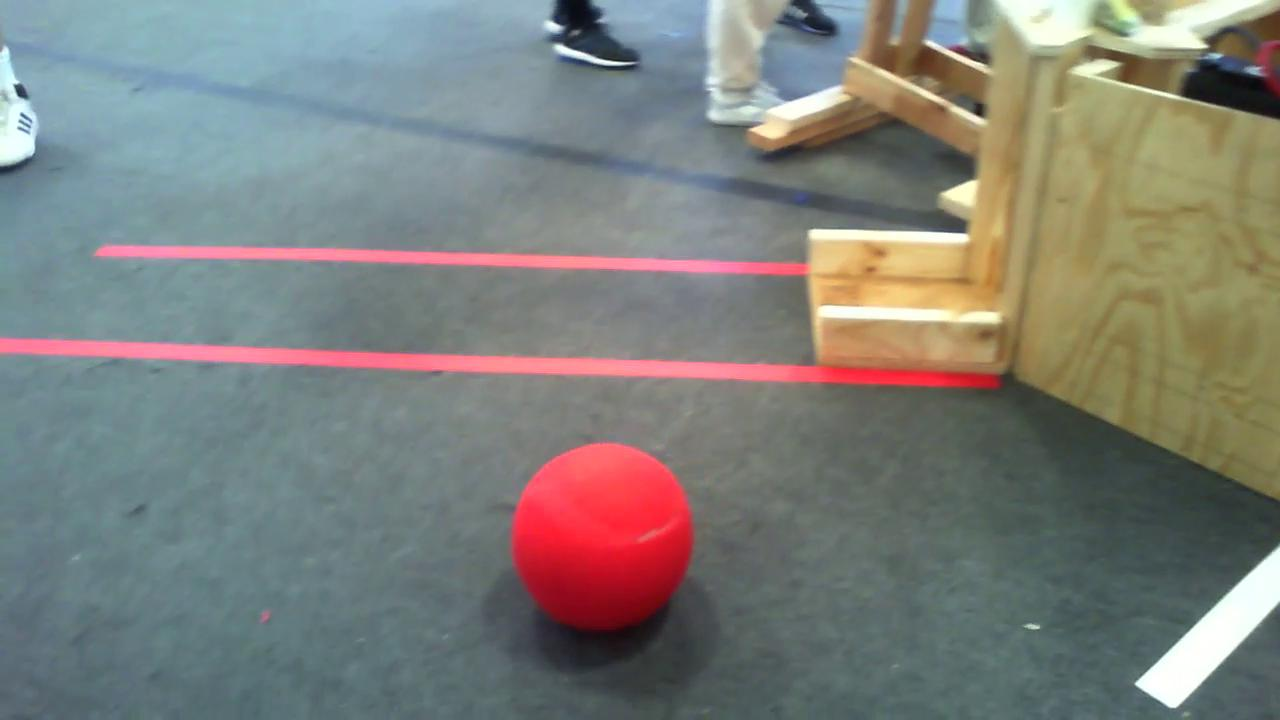Red_Ball: (517, 433, 697, 656)
